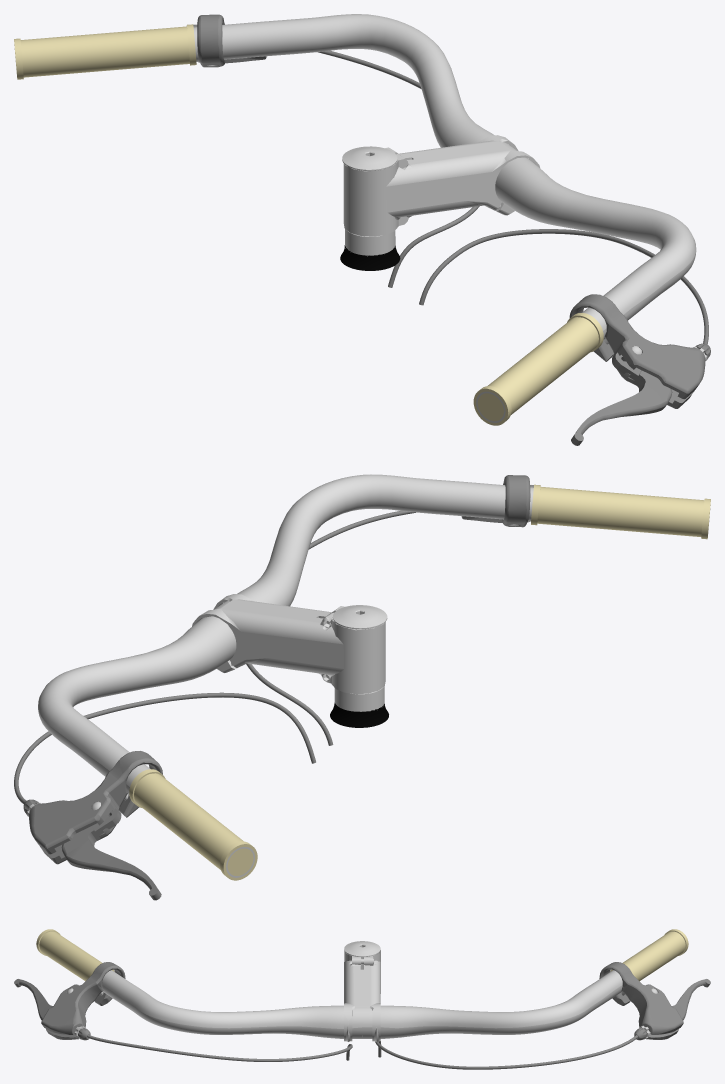
The model's file is Mango_Handle_Cruiser.glb.
3 renders of one model, top to bottom at view 1: azimuth 30°, elevation 25°; view 2: azimuth 150°, elevation 25°; view 3: azimuth 270°, elevation 25°, orthographic. The views are drawn at different scales.
Visible parts, largest first — view 1: no_transformations (×6); view 2: no_transformations (×6); view 3: no_transformations (×5).
Boxes of the visible parts, box(x1,y1,x2,y2) form: no_transformations (×6): box(14, 14, 710, 445); no_transformations (×6): box(14, 474, 710, 900); no_transformations (×5): box(14, 929, 710, 1069).
Bounding box in the file's own units: 237 × 107 × 666.
